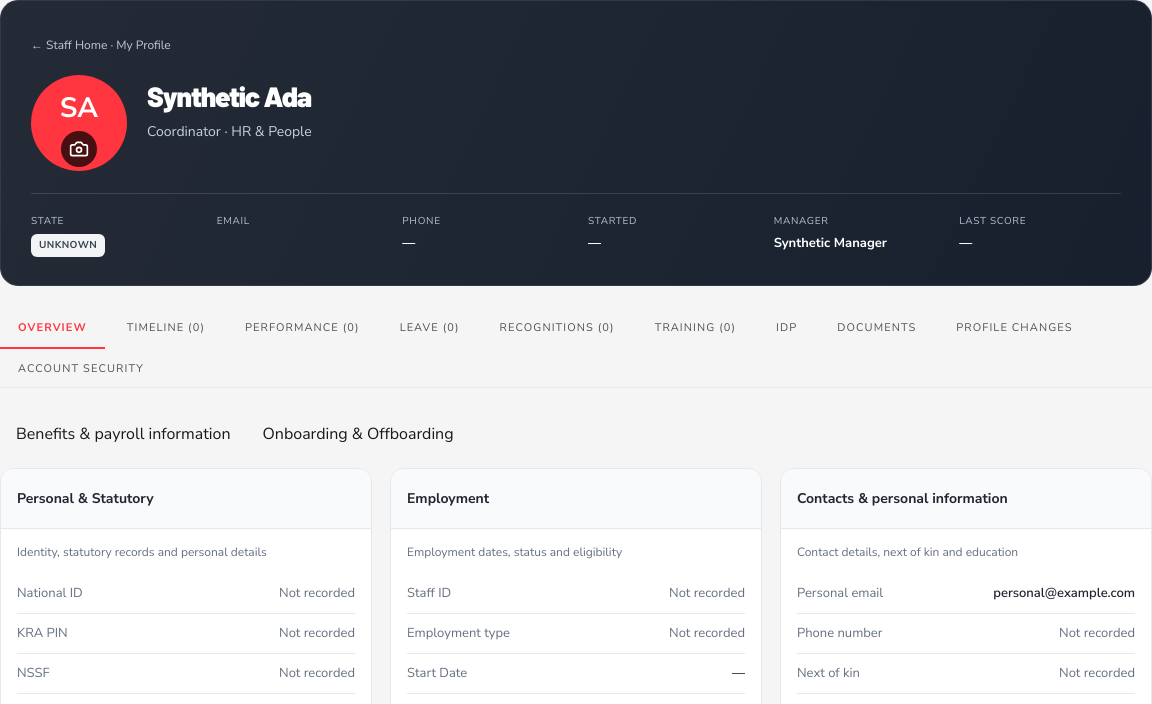
Test: document loading failure is not presented as an empty successful document list
This screenshot has width=1152, height=704.
What coordinates should you click on to do the following:
click the button "Documents"
I would click on:
 (877, 329)
Its box is [819,310,934,348].
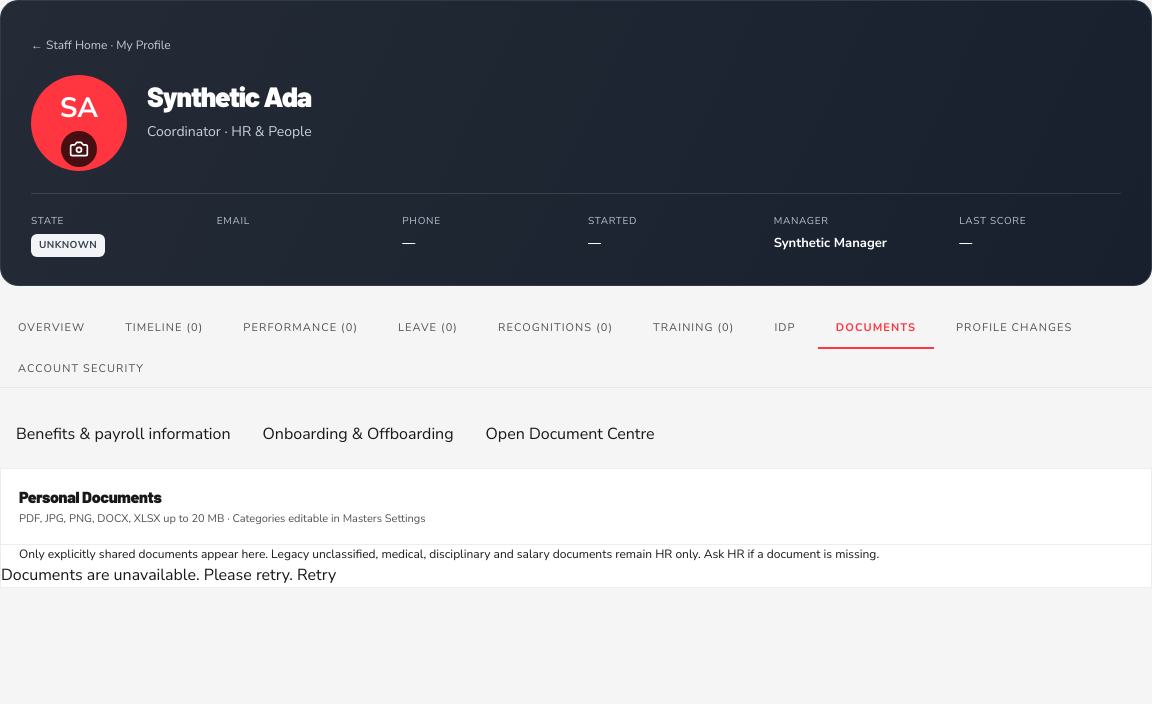
Result: the text "Documents are unavailable" is shown at [1,564,293,586]
